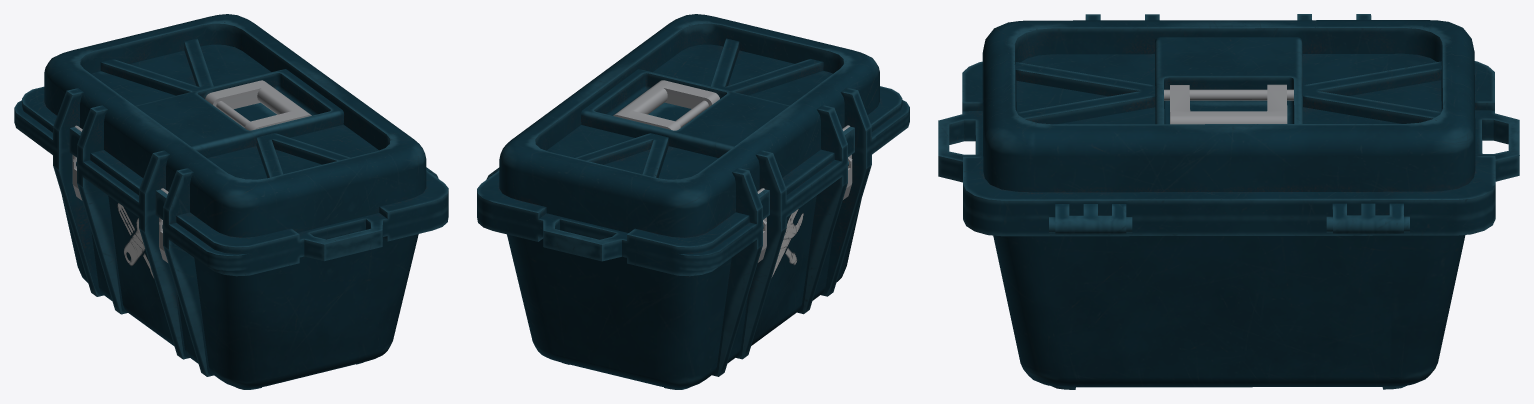
The model's file is toolbox_centered.glb.
3 renders of one model, left to right at view 1: azimuth 30°, elevation 25°; view 2: azimuth 150°, elevation 25°; view 3: azimuth 270°, elevation 25°, orthographic. The views are drawn at different scales.
Parts seen in each view (by area): view 1: box_a_LP; view 2: box_a_LP; view 3: box_a_LP.
Boxes of the visible parts, x1,y1,x2,y2 form: box_a_LP: (14,14,448,389); box_a_LP: (477,14,909,389); box_a_LP: (938,14,1519,389).
Bounding box in the file's own units: 0.3749 × 0.3063 × 0.5912.
Materials: 1 (1 with a texture image).
